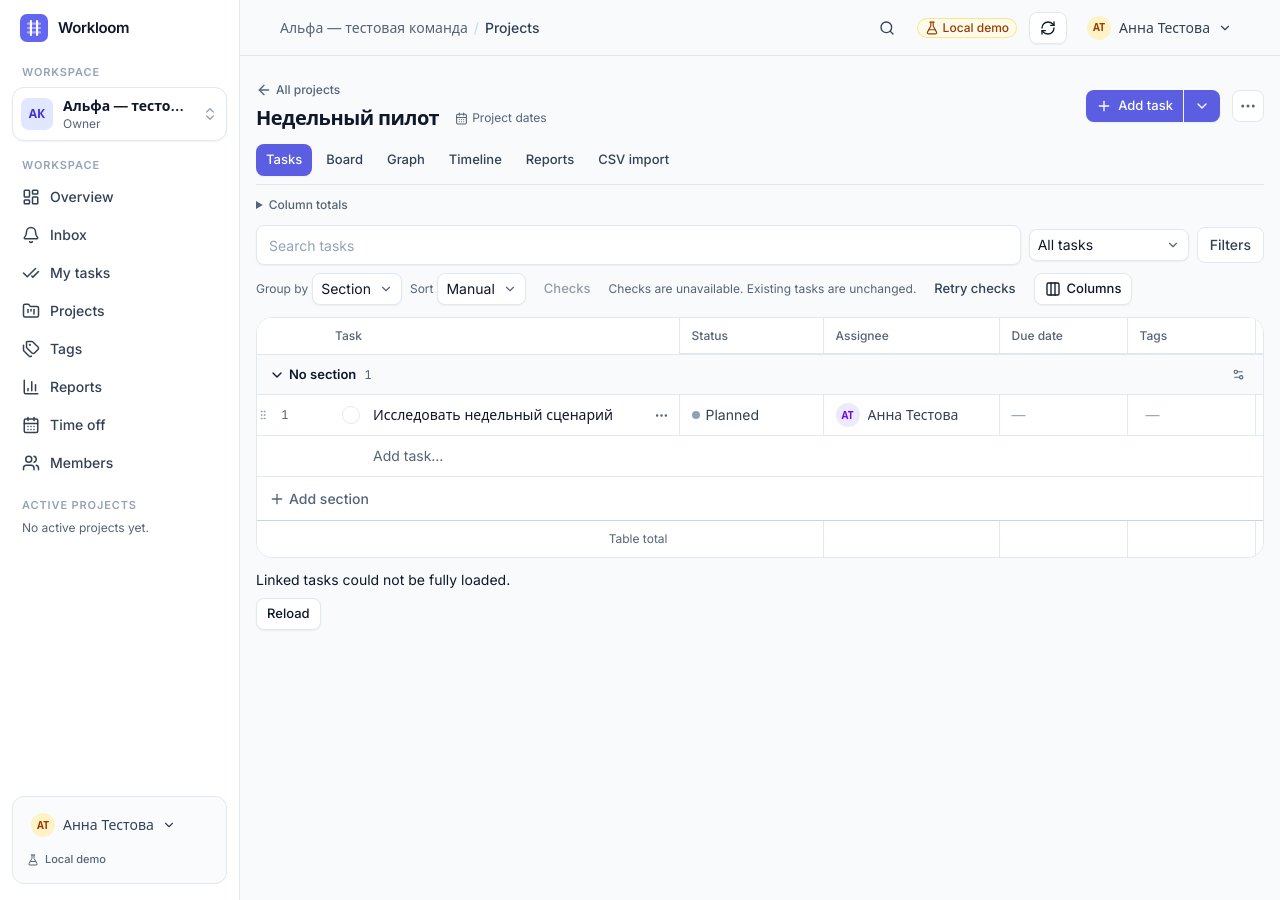
Test: a cell clicked after the save ACK while the list refetches › opens at once and writes the explicit status at the confirmed revision once
Click the button "Исследовать недельный сценарий" at (493, 415), box [369, 401, 617, 429]
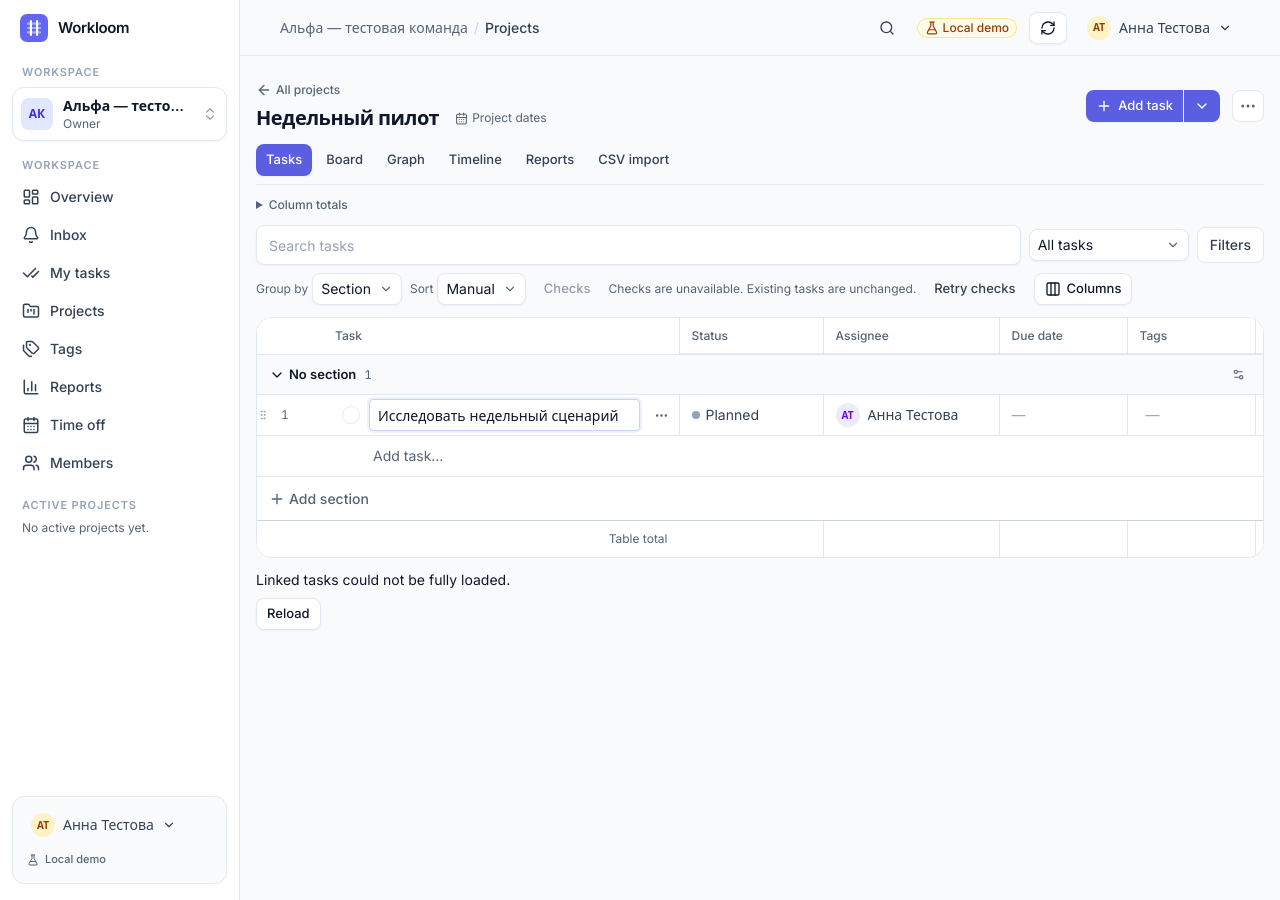
Replace the text in the field named "Task name" with "Renamed before status" at (504, 415), box [369, 399, 640, 431]
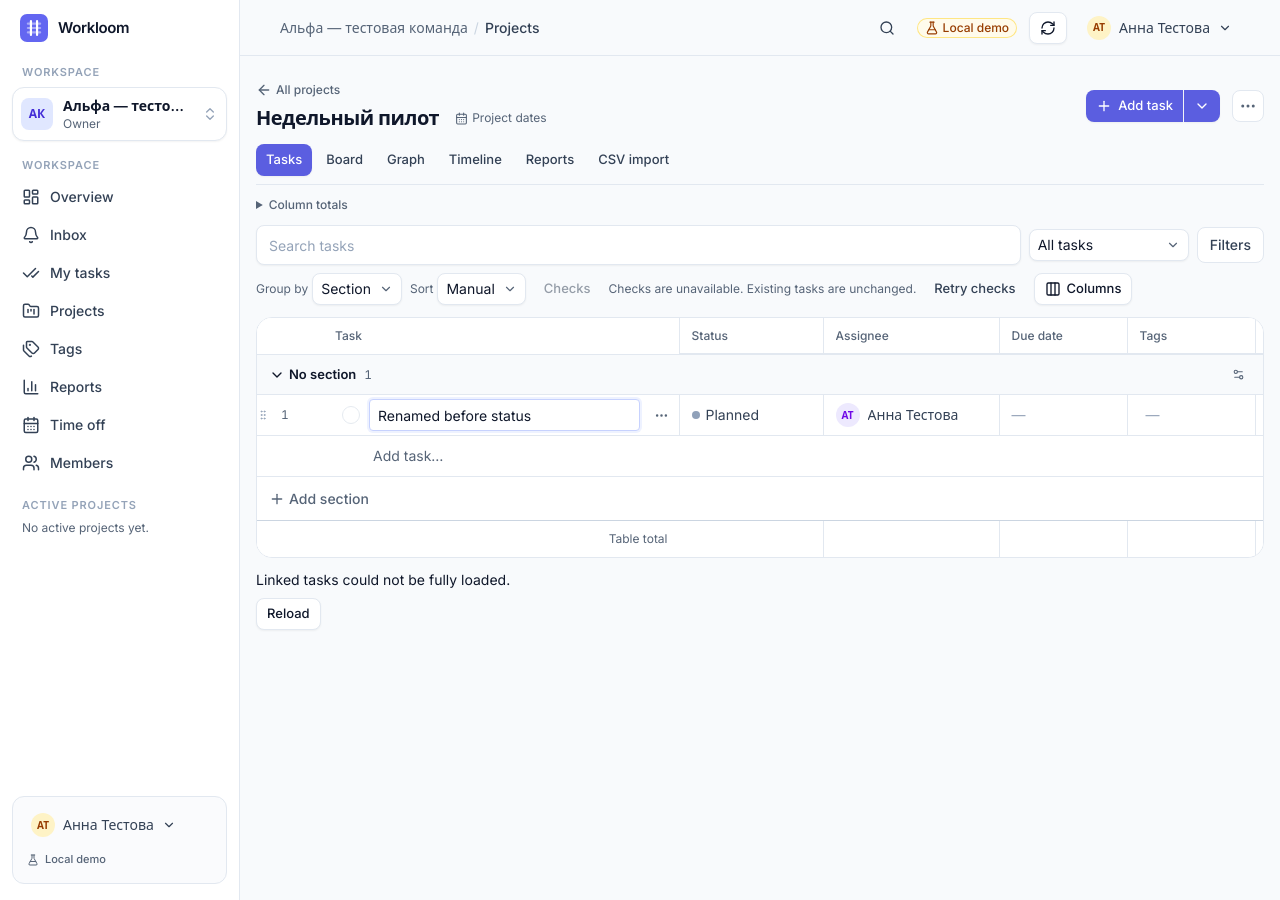
Type keys "{Control>}{Enter}{/Control}"
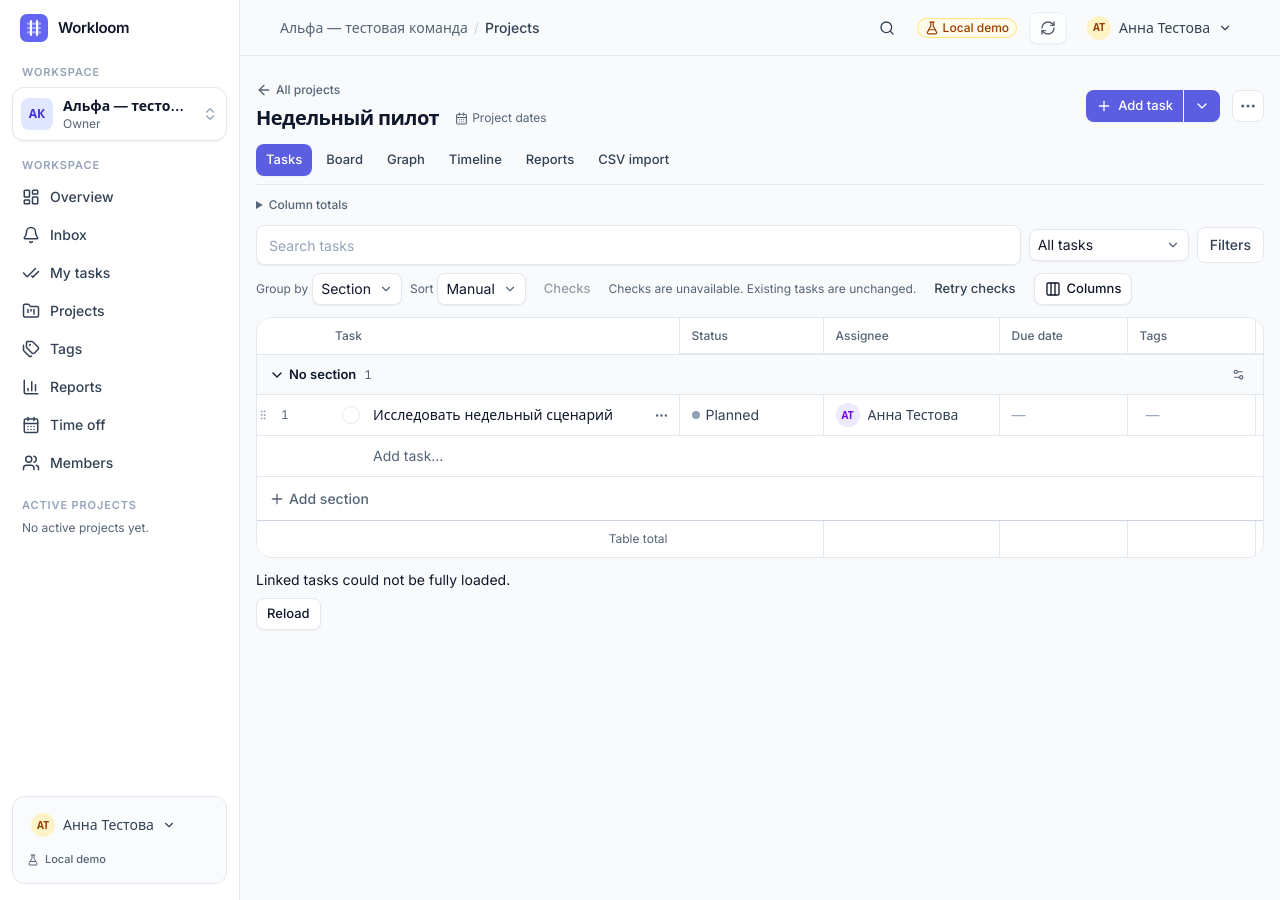
Click the button "Planned" at (752, 415), box [686, 399, 818, 431]
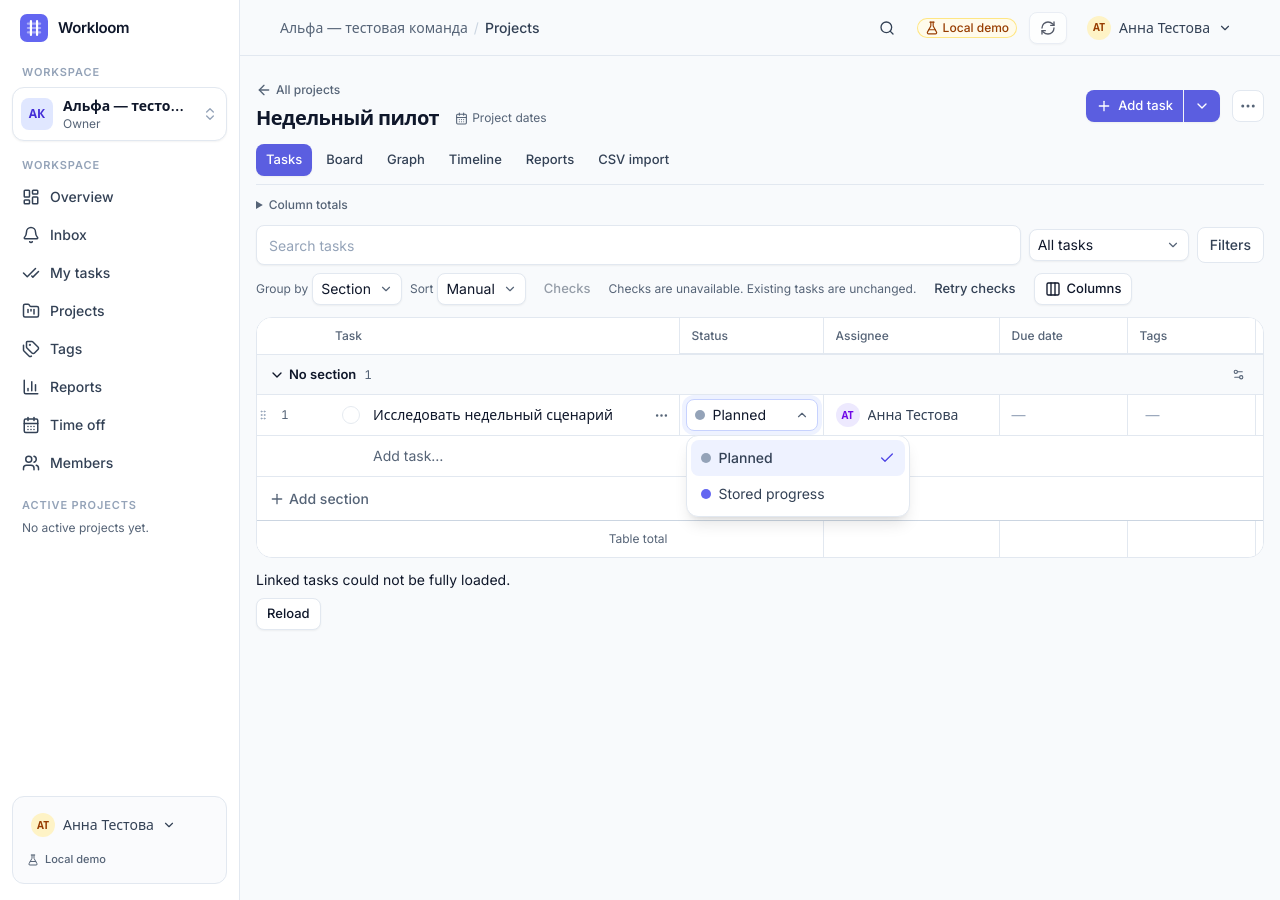
Click the option "Stored progress" at (763, 494), box [700, 485, 825, 502]
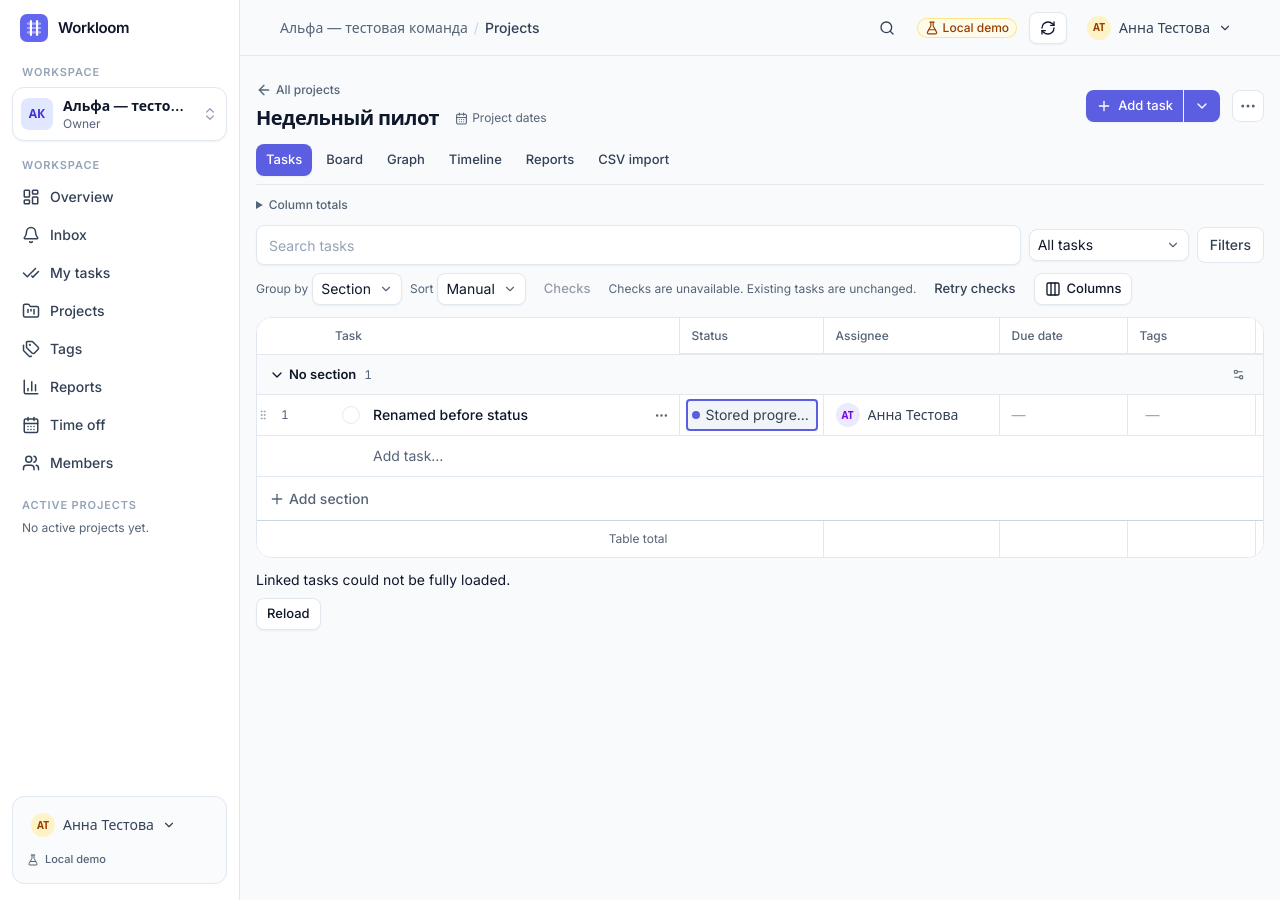
Check: the button "Renamed before status" is shown, box [369, 401, 532, 429]
